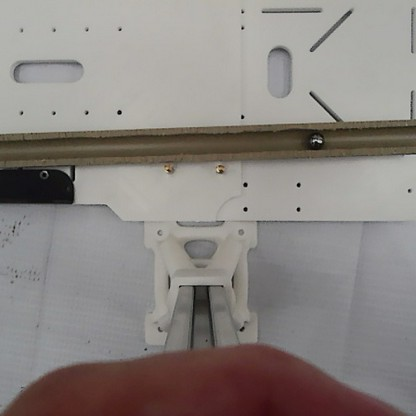ironball: (304, 130, 325, 148)
